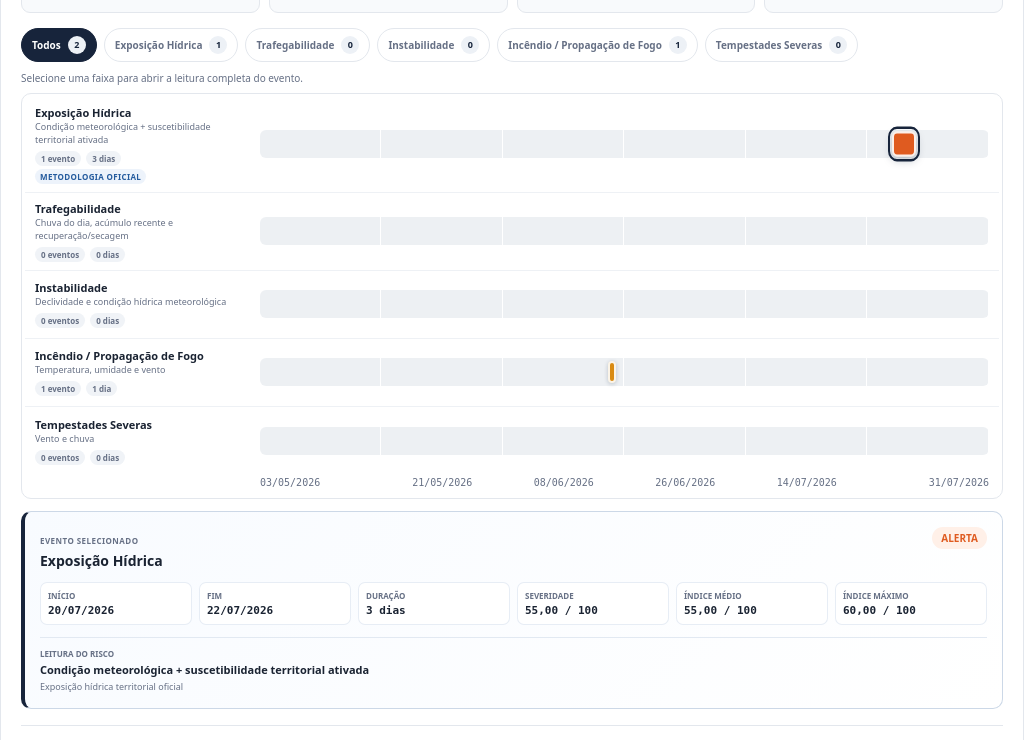
Test: dashboard de exposição › permite filtrar, selecionar e ler os riscos do período com datas e métricas
The image size is (1024, 740).
(page scrolled)
Expected: the element named "Detalhes do evento selecionado" shows "Exposição Hídrica", [40,551,163,570]
Click the button named "Incêndio / Propagação de Fogo, 15/06/2026 a 15/06/2026": (612, 372) [608,361,616,383]
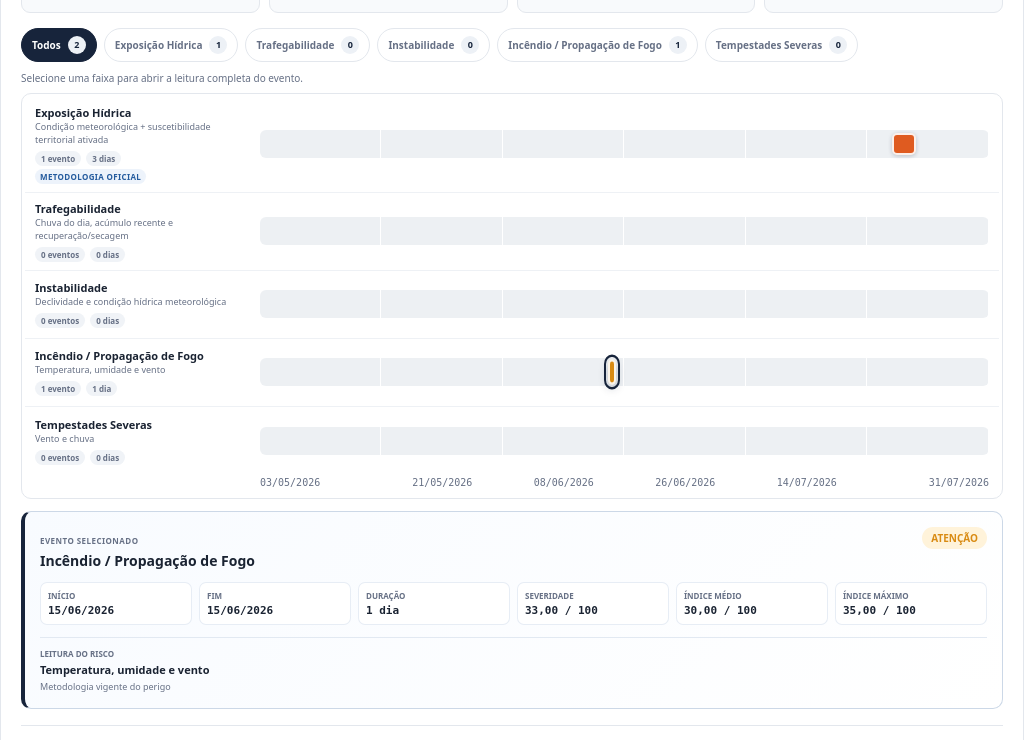
Expected: the element named "Detalhes do evento selecionado" shows "Incêndio / Propagação de Fogo", [40,551,255,570]
Click the button "Incêndio / Propagação de Fogo 1": (598, 45) [497,28,698,62]
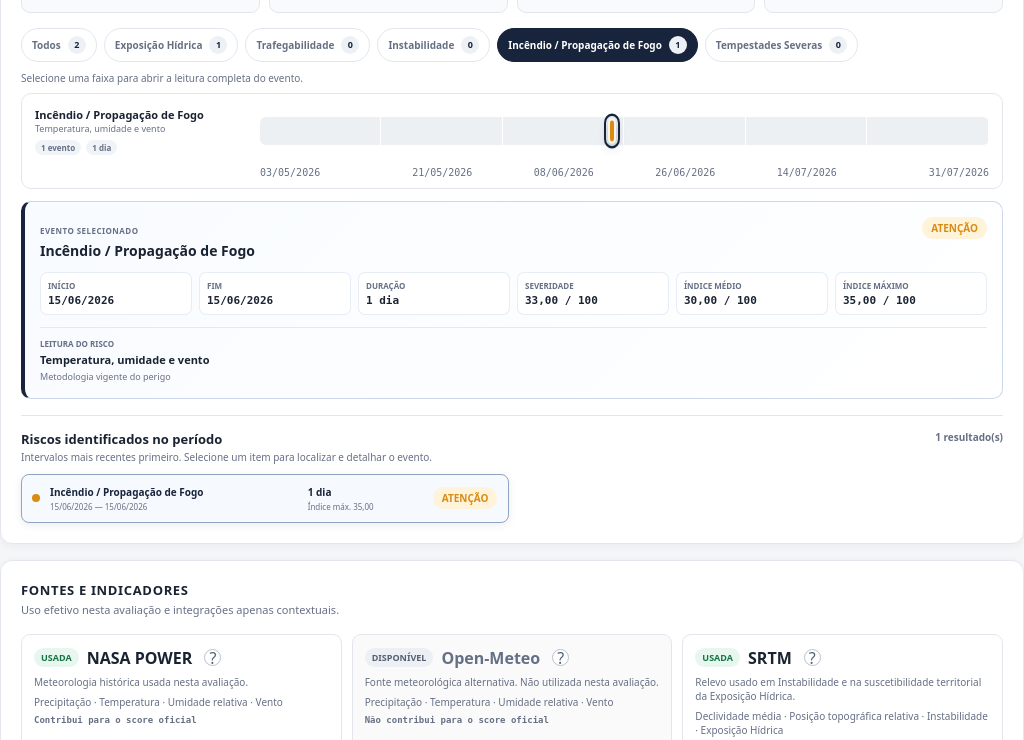
Expected: the number of elements with class "timeline-lane" is 1, [25,97,999,165]
Expected: the element labelled "Riscos identificados no período" shows "1 resultado(s)", [21,415,1003,523]
